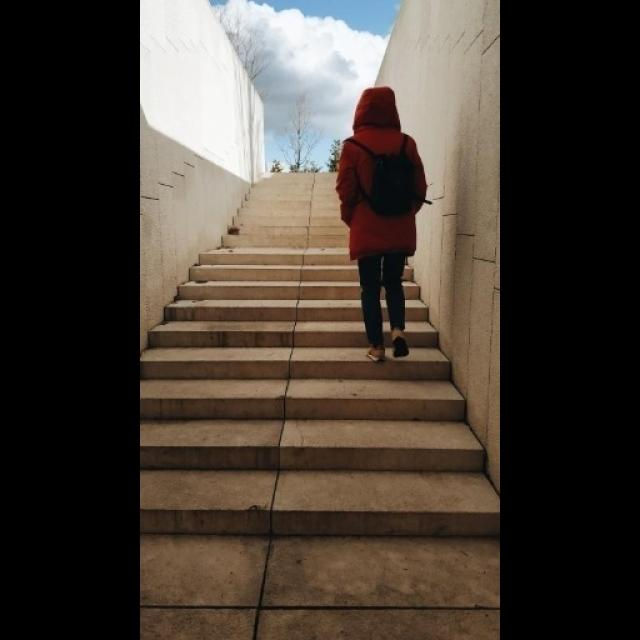stair: (140, 172, 498, 535)
